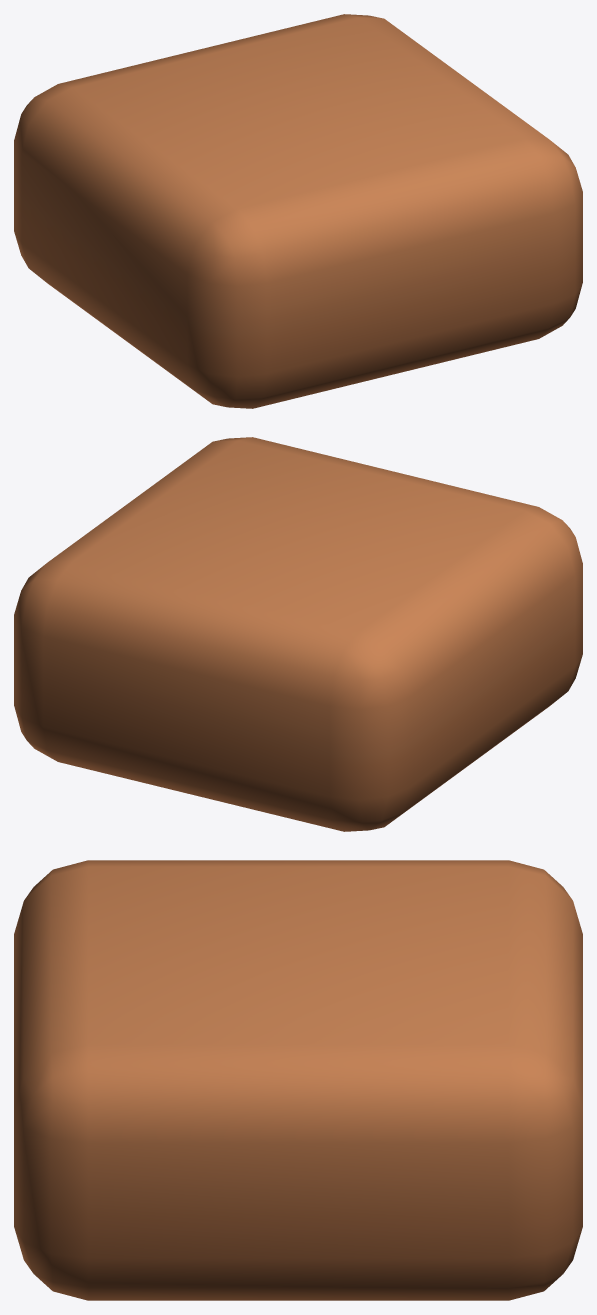
The model's file is candy_choco_14.fbx.
3 renders of one model, top to bottom at view 1: azimuth 30°, elevation 25°; view 2: azimuth 150°, elevation 25°; view 3: azimuth 270°, elevation 25°, orthographic. The views are drawn at different scales.
Visible parts, largest first — view 1: c_c_14; view 2: c_c_14; view 3: c_c_14.
Boxes of the visible parts, x1=… form: c_c_14: x1=14, y1=14, x2=582, y2=408; c_c_14: x1=14, y1=437, x2=582, y2=831; c_c_14: x1=14, y1=860, x2=582, y2=1300.
Size of the model in its own units: 111 by 53.6 by 111.
